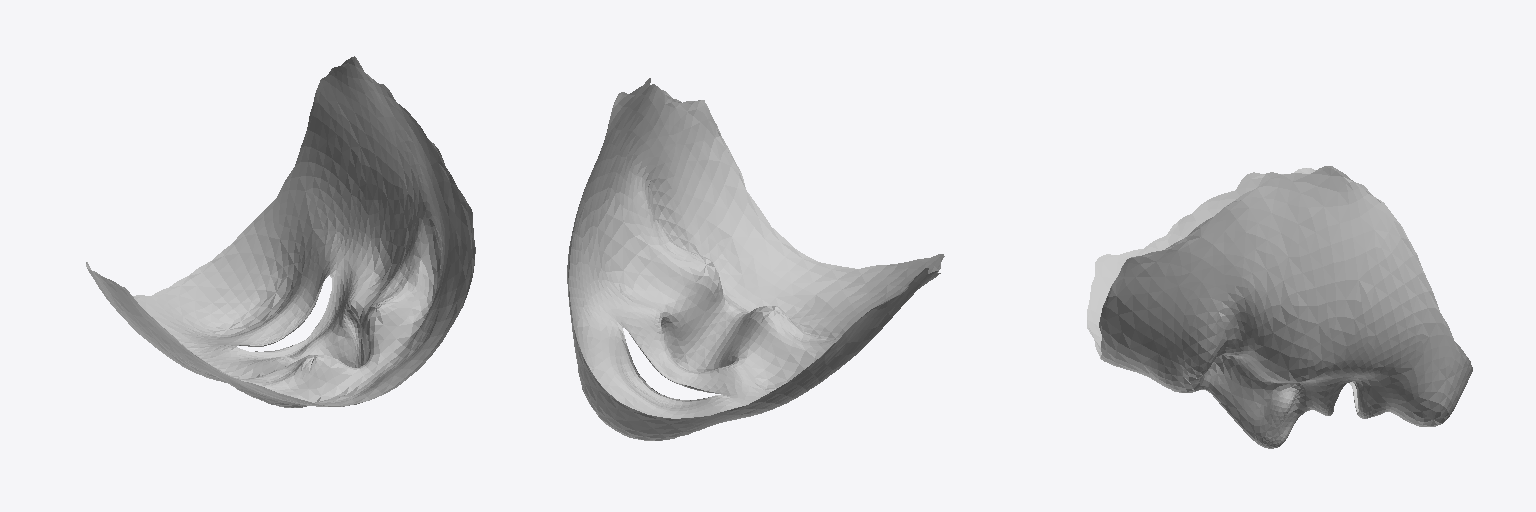
The model's file is face_gab_sfm27.obj.
3 views of the same model, side by side, from view 1: azimuth 30°, elevation 25°; view 2: azimuth 150°, elevation 25°; view 3: azimuth 270°, elevation 25° (orthographic).
Size of the model in its own units: 164 by 154 by 179.